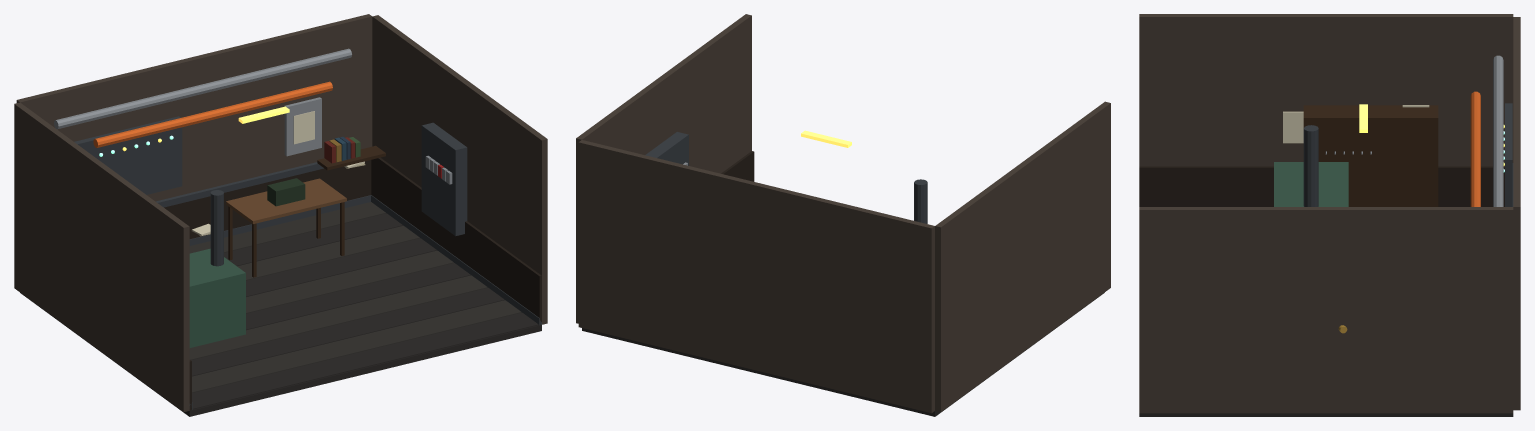
The model's file is plant.glb.
3 views of the same model, side by side, from view 1: azimuth 30°, elevation 25°; view 2: azimuth 150°, elevation 25°; view 3: azimuth 270°, elevation 25° (orthographic). The views are drawn at different scales.
Parts seen in each view (by area): view 1: WallLeft, WallBack, WallRight, BandRight, Plank0, Plank1, Plank2, Plank3, GenBody, PlantPanel, Breakers, Plank4 (+18 smaller); view 2: WallBack, WallLeft, WallRight, Floor, Breakers, GenExhaust, BandRight; view 3: WallRight, WallLeft, Crib, BandLeft, WallBack, GenBody, Pipe1, Floor, GenExhaust, Pipe2, PlantPanel, P_h_work_order.
Part boxes in pixels (x1=…): WallLeft: x1=14, y1=102, x2=189, y2=411; WallBack: x1=16, y1=14, x2=372, y2=201; WallRight: x1=372, y1=15, x2=547, y2=324; BandRight: x1=371, y1=157, x2=541, y2=324; Plank0: x1=192, y1=312, x2=538, y2=409; Plank1: x1=192, y1=300, x2=521, y2=392; Plank2: x1=191, y1=287, x2=504, y2=376; Plank3: x1=189, y1=275, x2=487, y2=360; GenBody: x1=189, y1=248, x2=245, y2=347; PlantPanel: x1=74, y1=116, x2=182, y2=194; Breakers: x1=421, y1=122, x2=467, y2=236; Plank4: x1=246, y1=263, x2=470, y2=330; WallBack: x1=578, y1=140, x2=934, y2=413; WallLeft: x1=935, y1=101, x2=1110, y2=411; WallRight: x1=576, y1=14, x2=751, y2=323; Floor: x1=582, y1=292, x2=1104, y2=416; Breakers: x1=645, y1=132, x2=688, y2=165; GenExhaust: x1=914, y1=179, x2=927, y2=223; BandRight: x1=721, y1=151, x2=754, y2=181; WallRight: x1=1139, y1=207, x2=1513, y2=413; WallLeft: x1=1139, y1=14, x2=1513, y2=166; Crib: x1=1303, y1=105, x2=1438, y2=206; BandLeft: x1=1139, y1=166, x2=1504, y2=206; WallBack: x1=1513, y1=17, x2=1520, y2=410; GenBody: x1=1274, y1=162, x2=1348, y2=206; Pipe1: x1=1493, y1=55, x2=1503, y2=206; Floor: x1=1139, y1=413, x2=1513, y2=416; GenExhaust: x1=1303, y1=125, x2=1318, y2=206; Pipe2: x1=1470, y1=91, x2=1480, y2=206; PlantPanel: x1=1505, y1=103, x2=1512, y2=206; P_h_work_order: x1=1283, y1=111, x2=1303, y2=143.
Size of the model in its own units: 6.26 by 3.1 by 5.1.
